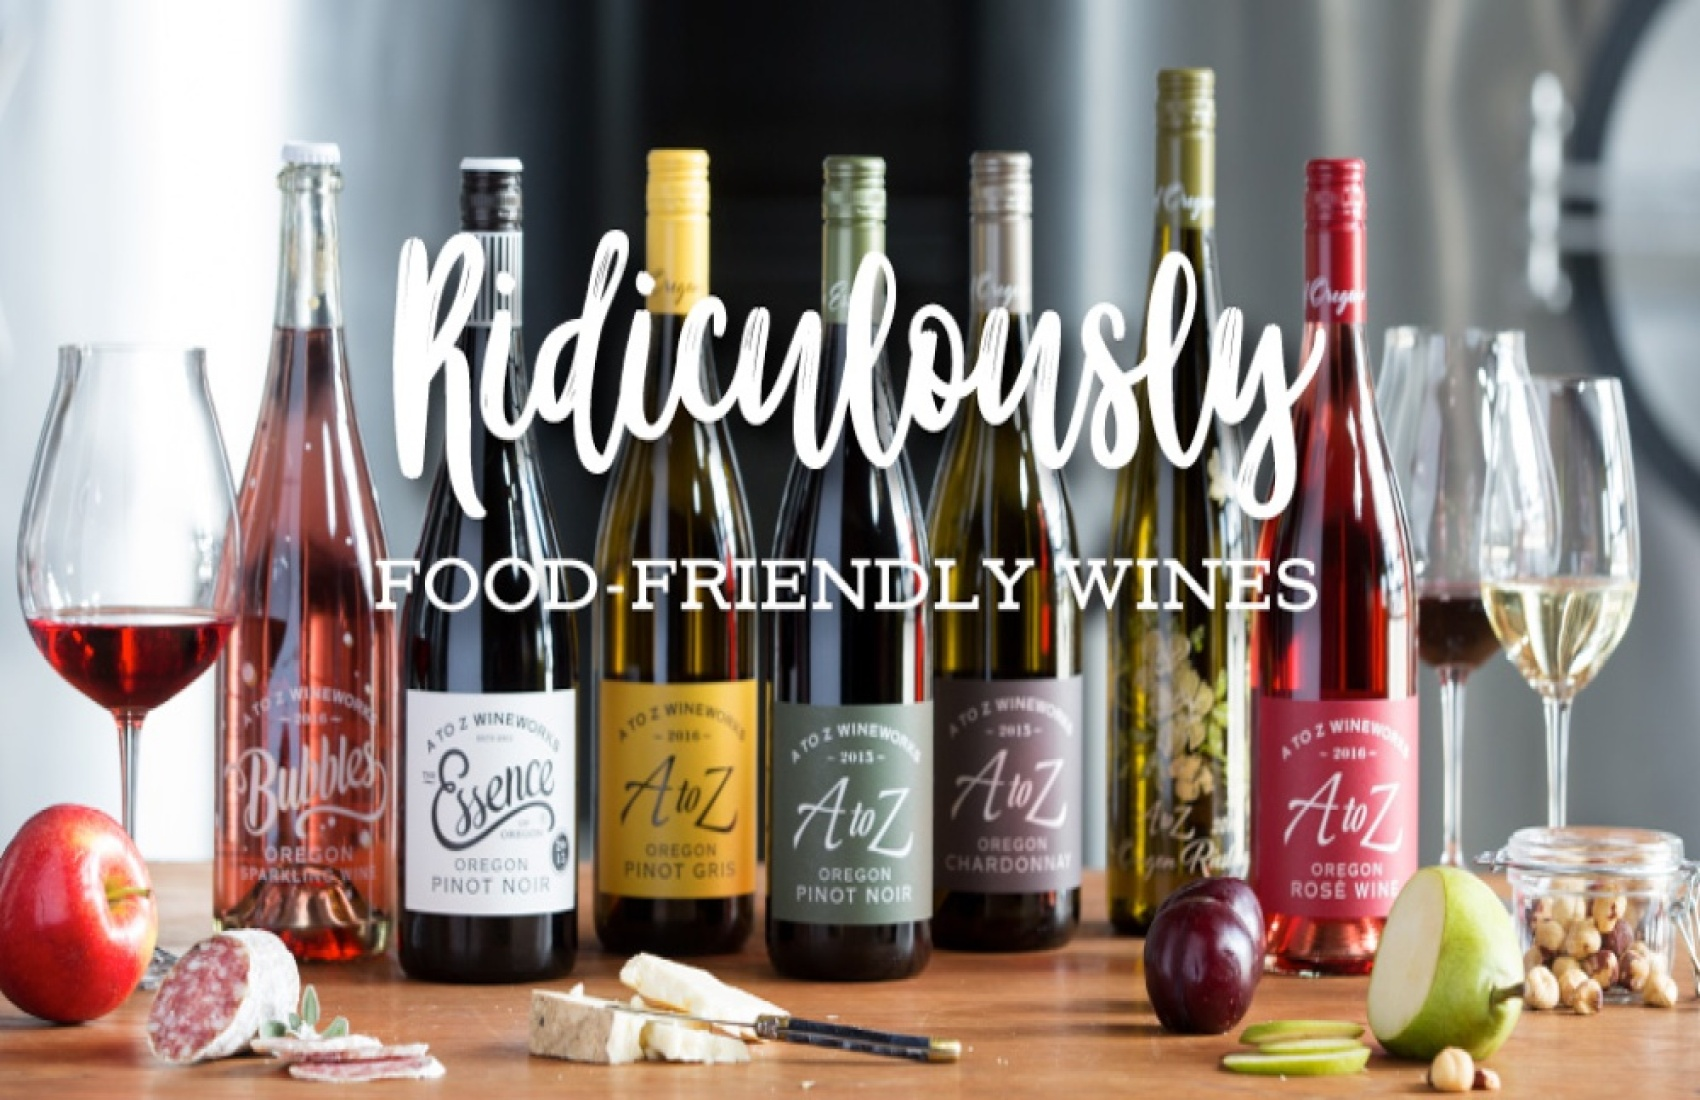wine: (213, 180, 392, 964), (602, 168, 781, 953), (406, 177, 584, 962), (783, 180, 931, 967), (938, 108, 1080, 914), (1111, 102, 1254, 908), (1268, 149, 1409, 955)
